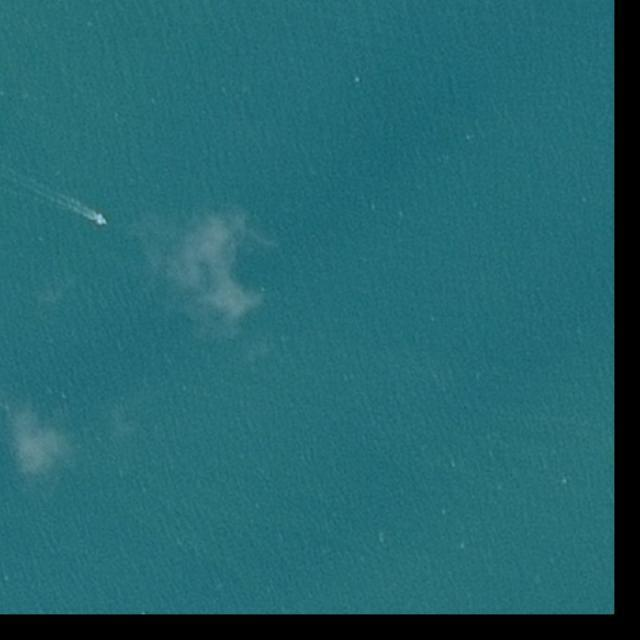ship: (98, 218, 106, 225)
